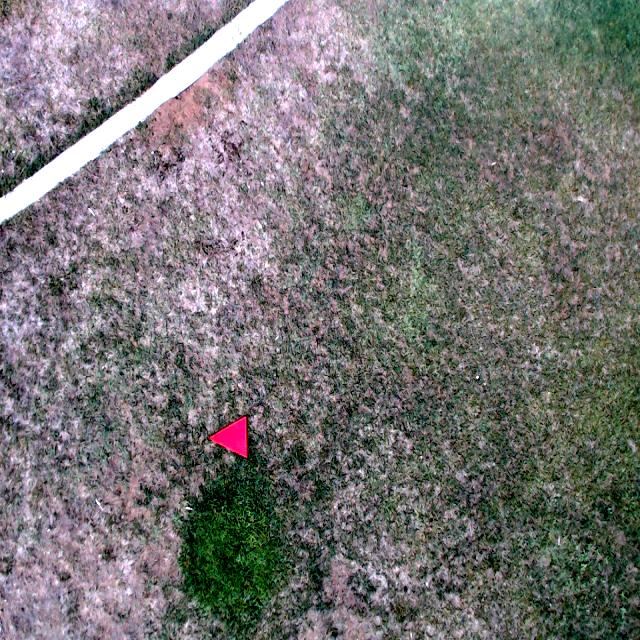red_triangle: (208, 415, 247, 460)
